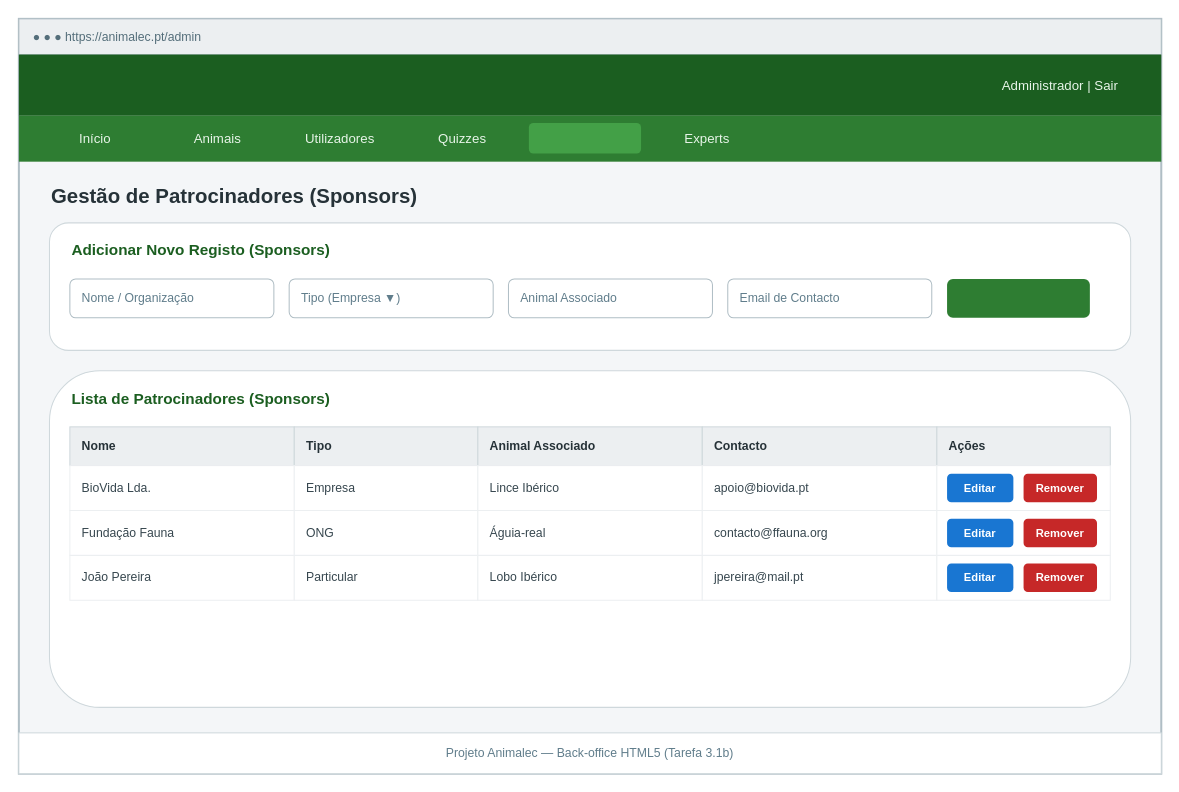
This 1179x792 diagram has some shape labels left out. The box of each missing label's shape, as (x1, y1, x2, y2) in pixels:
+ Adicionar: (947, 278, 1089, 317)
Animalec — Back-office de Administração: (18, 54, 1161, 115)
Sponsors: (528, 122, 641, 153)
